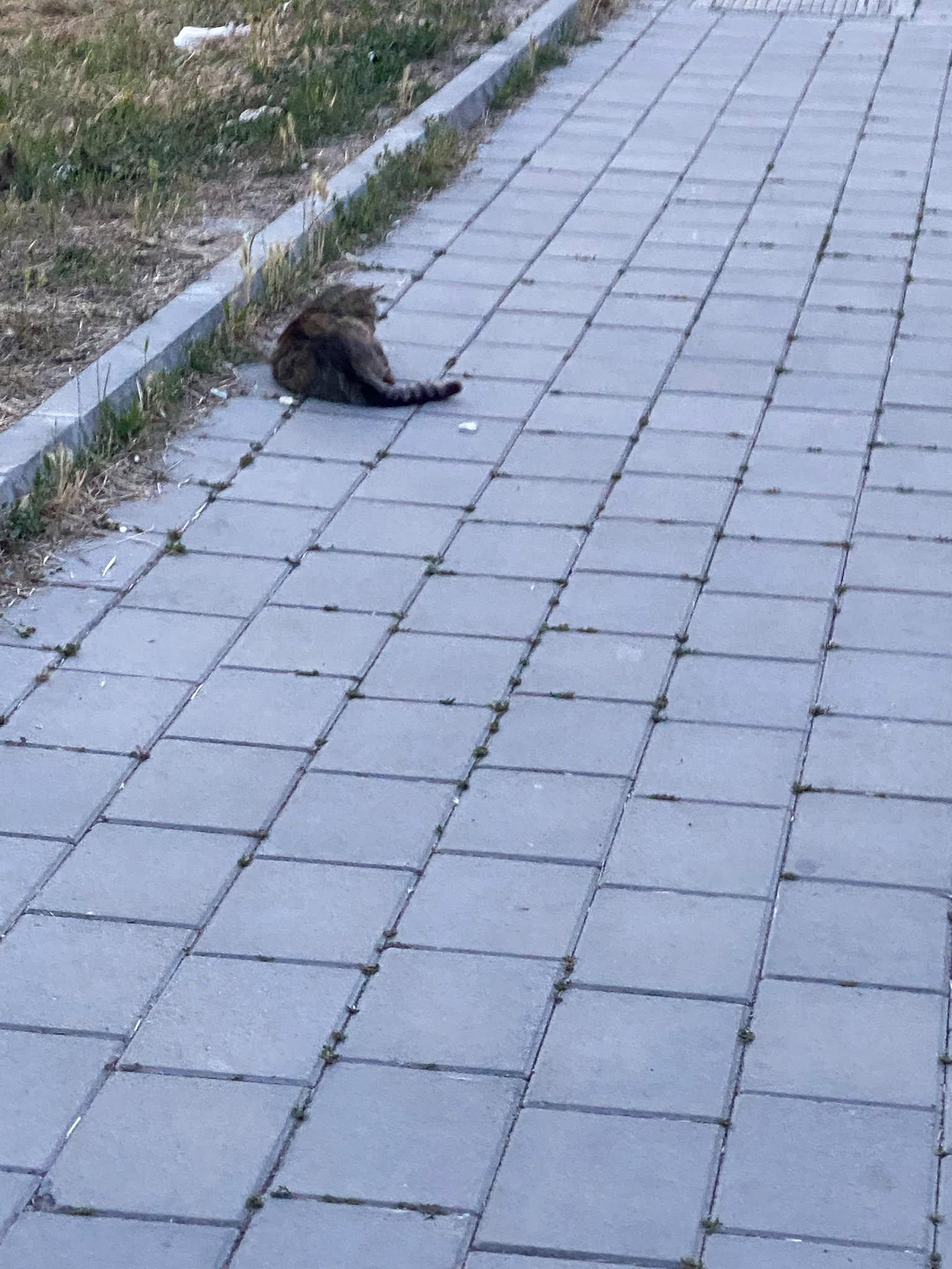macka: (269, 281, 462, 409)
